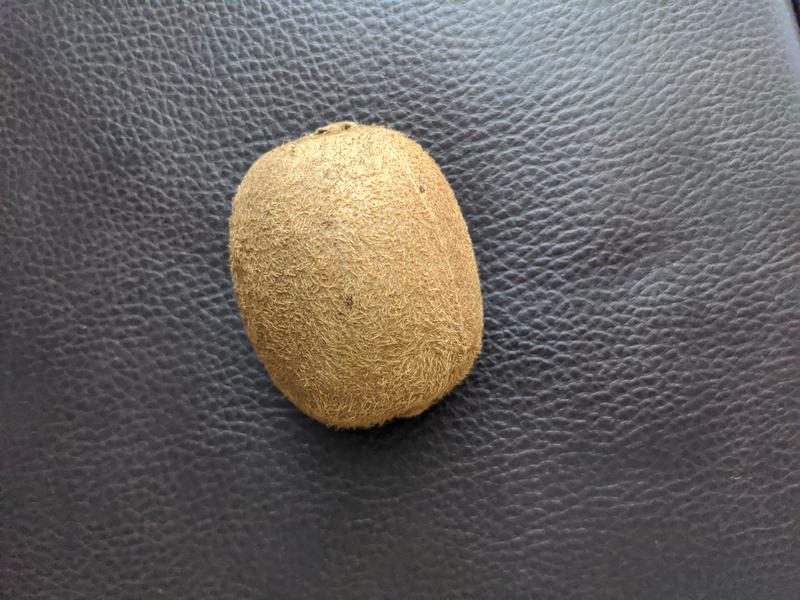kiwi: (227, 124, 485, 429)
